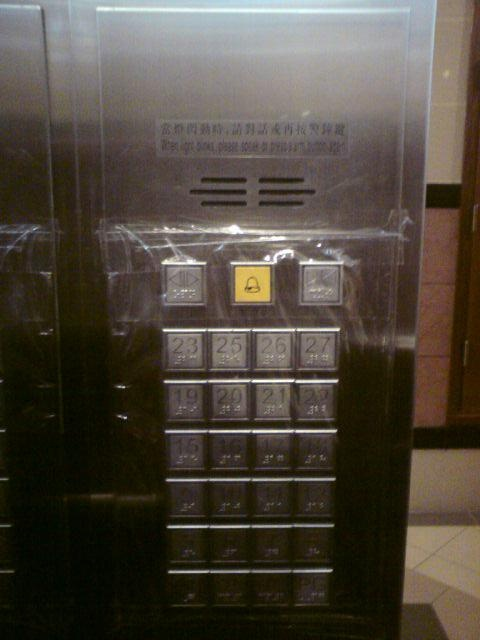11: (253, 477, 296, 518)
12: (296, 478, 337, 519)
15: (162, 428, 208, 471)
16: (209, 428, 252, 471)
17: (252, 428, 296, 472)
19: (162, 379, 207, 421)
20: (208, 380, 252, 422)
21: (253, 380, 297, 422)
22: (294, 379, 337, 420)
23: (160, 328, 209, 373)
25: (209, 326, 252, 373)
26: (252, 327, 297, 373)
27: (298, 327, 341, 372)
PG: (293, 570, 334, 612)
alarm: (228, 261, 276, 307)
blur: (297, 260, 344, 306), (162, 475, 209, 518), (165, 523, 209, 568), (292, 524, 335, 570), (165, 569, 210, 612), (296, 429, 338, 473), (210, 524, 251, 569), (209, 477, 253, 518), (252, 524, 292, 569), (211, 569, 252, 612), (253, 570, 293, 614)
open: (159, 261, 208, 308)
